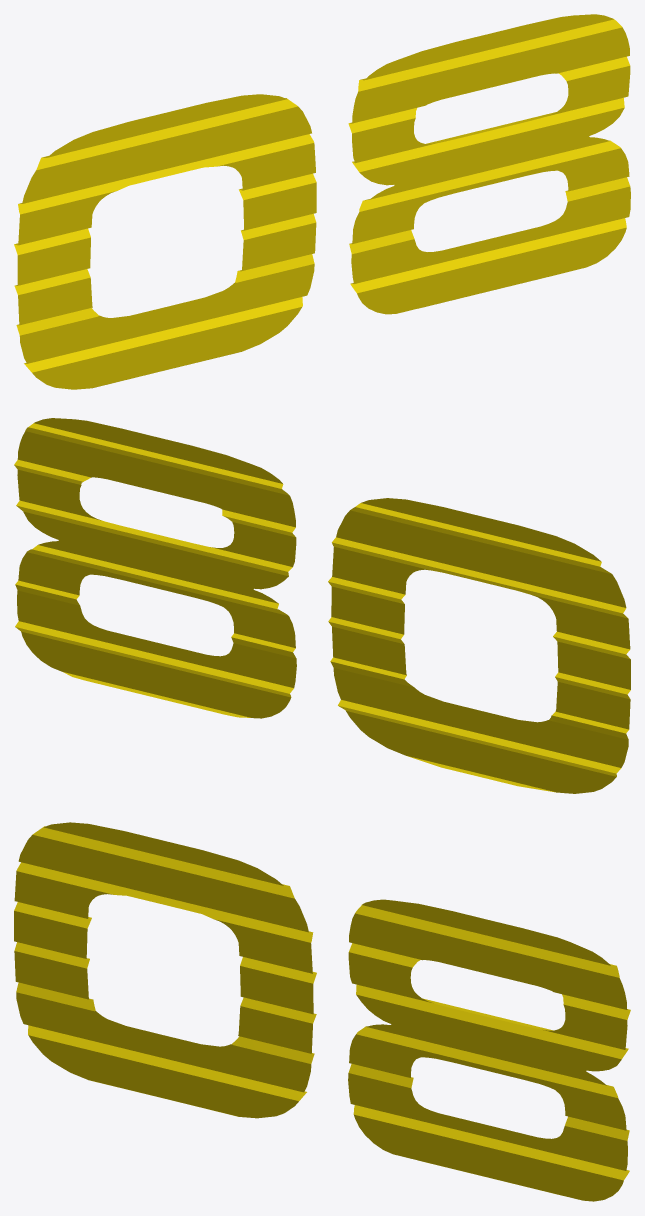
File: SharedDecalGymDoorB.fbx
The picture shows the model from 3 angles, top to bottom: view 1: azimuth 30°, elevation 25°; view 2: azimuth 150°, elevation 25°; view 3: azimuth 330°, elevation 25°; orthographic projection.
Parts seen in each view (by area): view 1: SharedDecalGymDoorB001; view 2: SharedDecalGymDoorB001; view 3: SharedDecalGymDoorB001.
Part boxes in pixels (left/top/right/bottom): SharedDecalGymDoorB001: left=14, top=14, right=630, bottom=389; SharedDecalGymDoorB001: left=14, top=418, right=630, bottom=793; SharedDecalGymDoorB001: left=14, top=822, right=630, bottom=1201.
Size of the model in its own units: 219 by 88.42 by 2.56.
